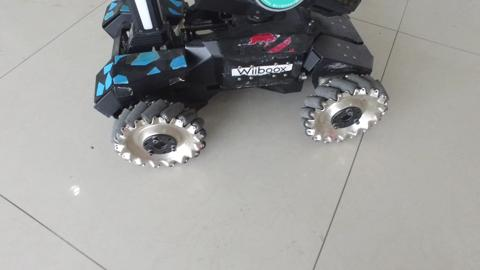chariot: (68, 8, 396, 187)
